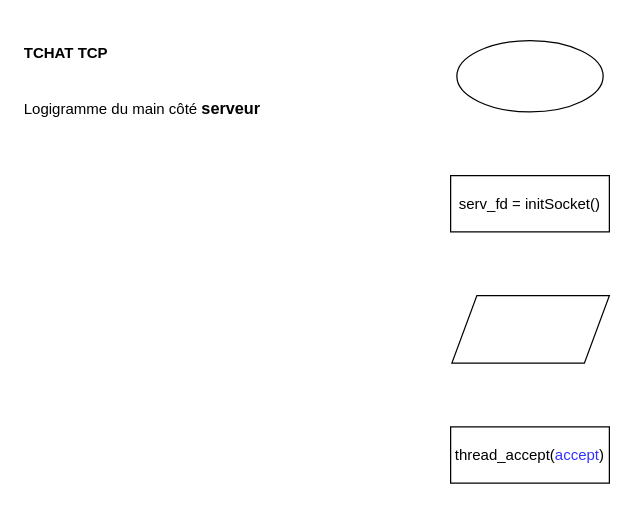
Image size: 631x505. Some labels were removed from this diagram. The shapes that lost their labels are listed below. From the top down, each one's centre as x and y in pixels, then its label:
At pixel 529 75: "début".
At pixel 530 328: "tab clients[ ]".
